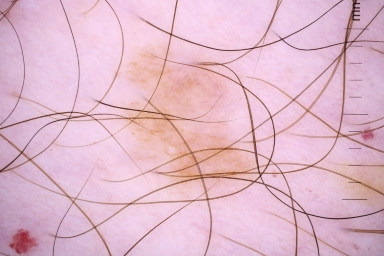melanoma: (120, 44, 256, 200)
